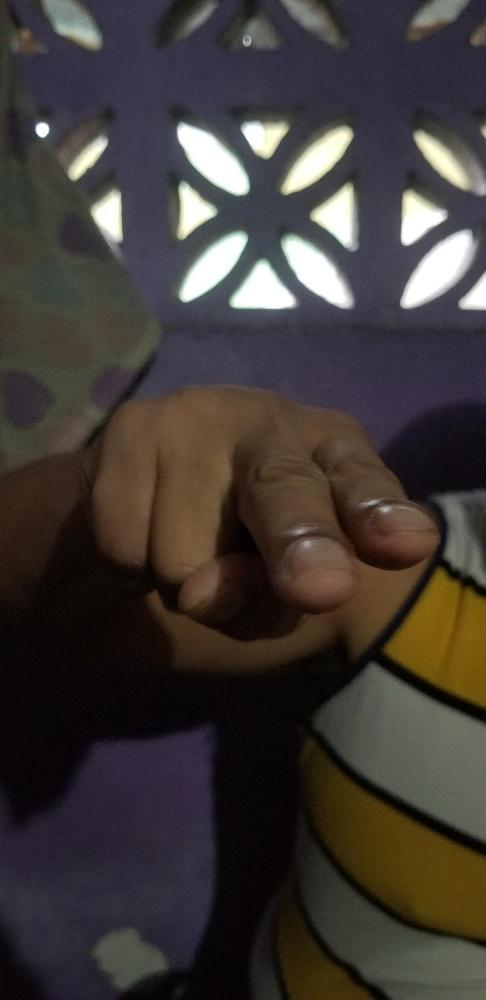n: (86, 378, 439, 645)
